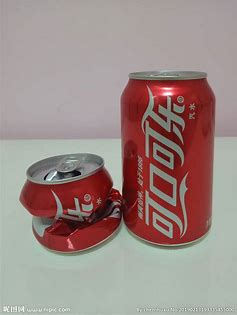Coke: (121, 68, 218, 251)
